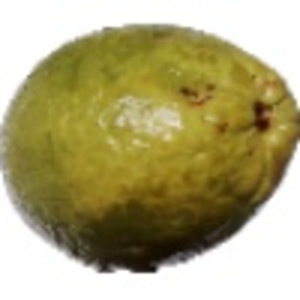goiaba: (2, 19, 295, 277)
